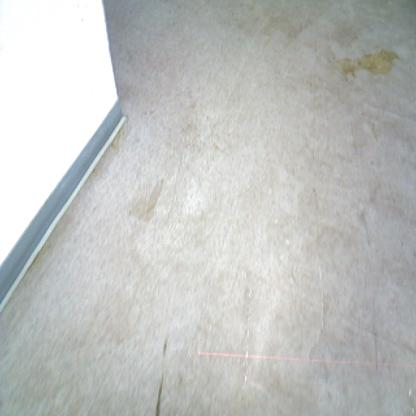liquid: (331, 48, 400, 82), (307, 259, 327, 357), (239, 285, 252, 392), (405, 386, 416, 416), (286, 262, 298, 285)
mark: (127, 176, 164, 224), (359, 210, 372, 249), (153, 373, 163, 416), (370, 319, 378, 370), (369, 183, 382, 204), (160, 337, 170, 357)
